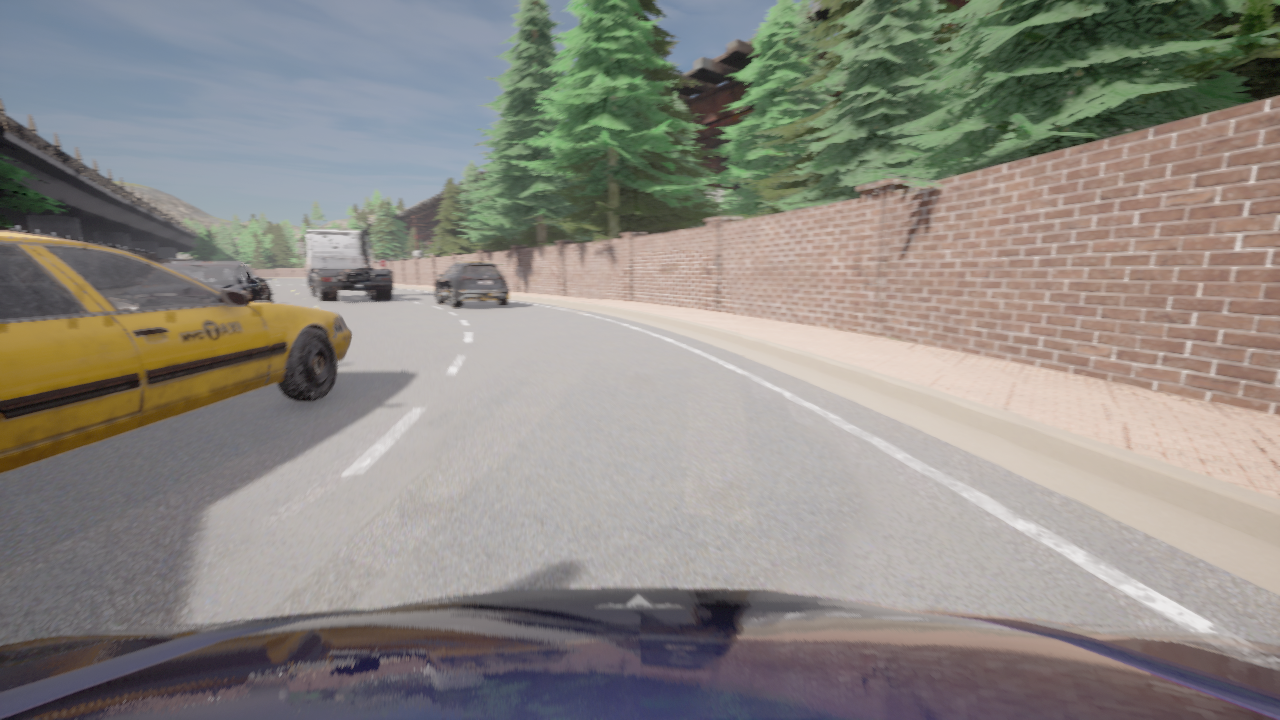cyclist: (0, 588, 1279, 719), (298, 229, 393, 302), (162, 262, 273, 302), (435, 261, 509, 307)
